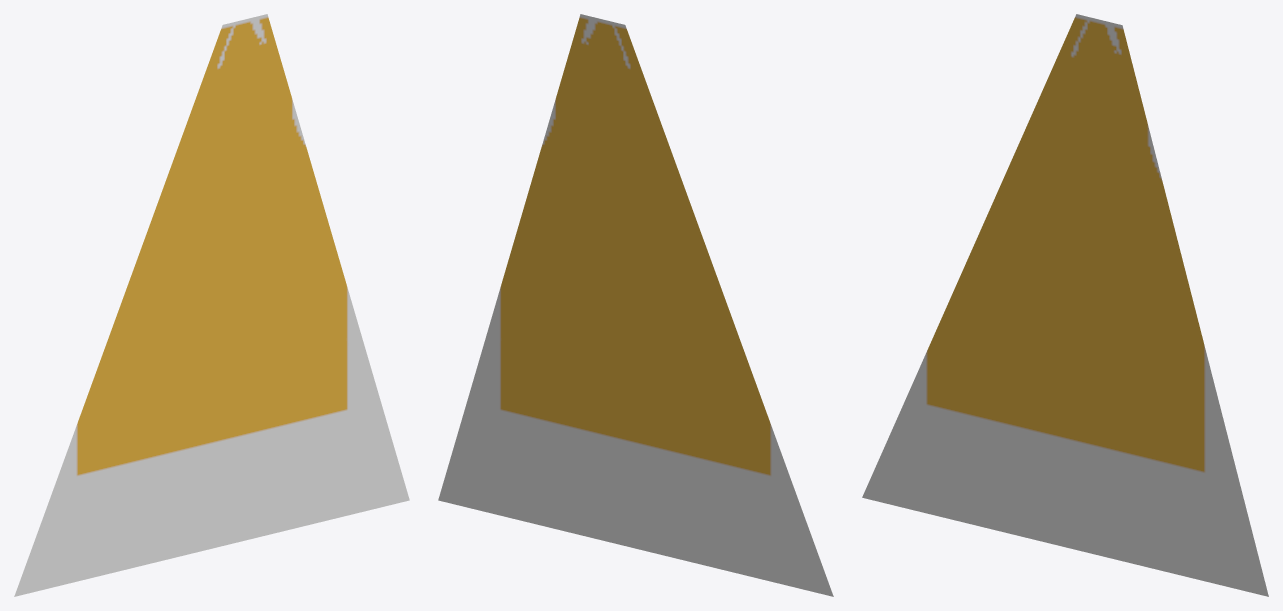
File: HZC_NightLight_fbx.FBX
The picture shows the model from 3 angles, left to right: view 1: azimuth 30°, elevation 25°; view 2: azimuth 150°, elevation 25°; view 3: azimuth 330°, elevation 25°; orthographic projection. The views are drawn at different scales.
Parts seen in each view (by area): view 1: Object001; view 2: Object001; view 3: Object001.
Boxes of the visible parts, box(x1,y1,x2,y2) form: Object001: box(14, 14, 409, 596); Object001: box(438, 14, 833, 596); Object001: box(862, 14, 1268, 596).
Bounding box in the file's own units: 1.8 × 2.27 × 4.58e-07.
Materials: 1 (1 with a texture image).
